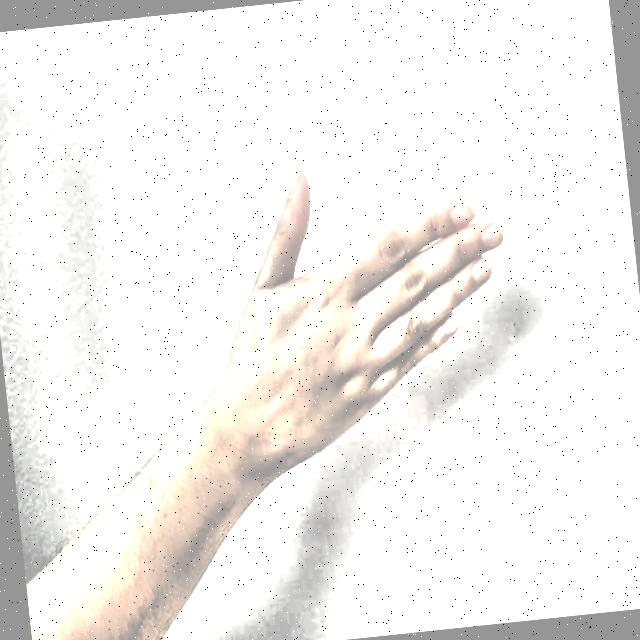Aa: (208, 114, 548, 512)
